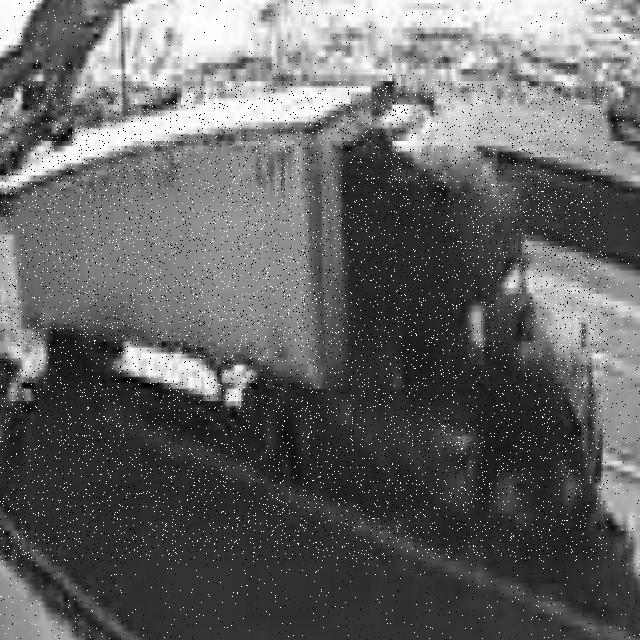Tractor Trailer: (0, 83, 608, 561)
